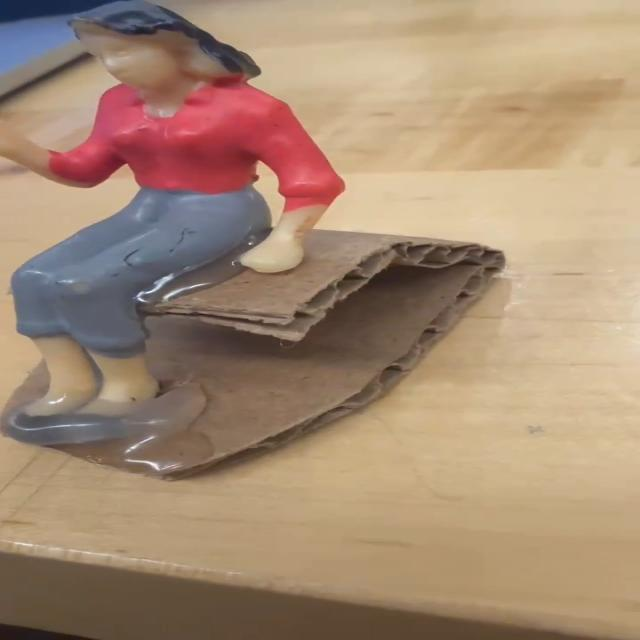Authorized: (0, 0, 329, 466)
